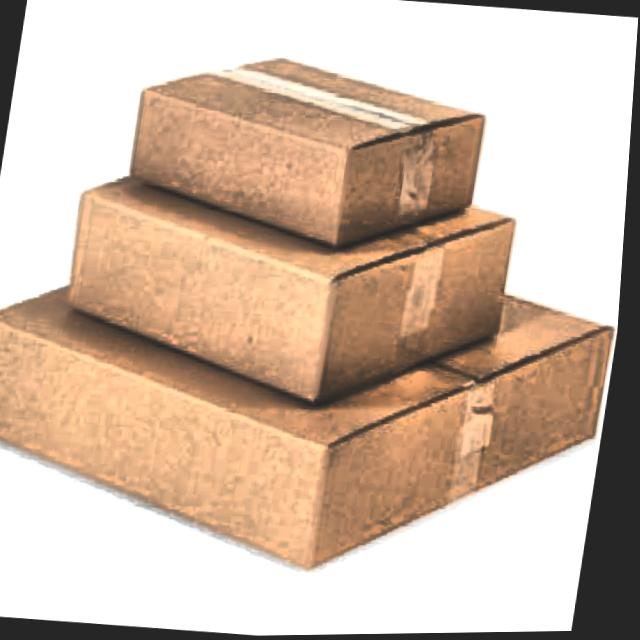Cardbox: (0, 198, 629, 614), (40, 123, 540, 424), (110, 19, 517, 260)
